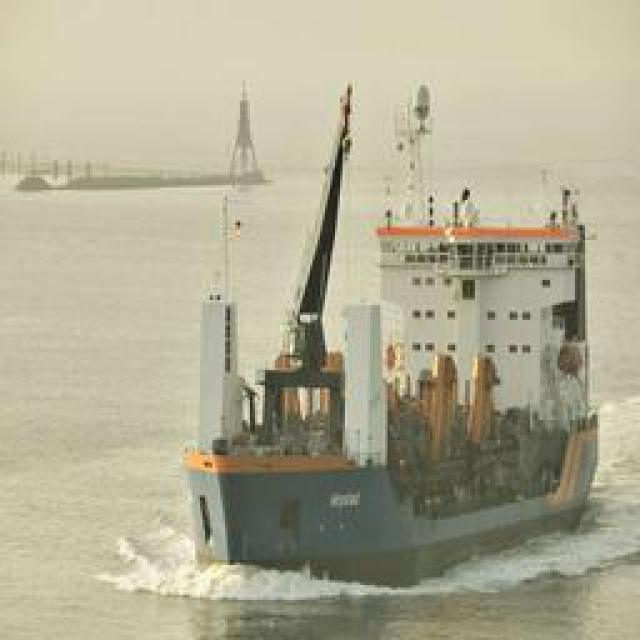Ship: (181, 32, 601, 582)
